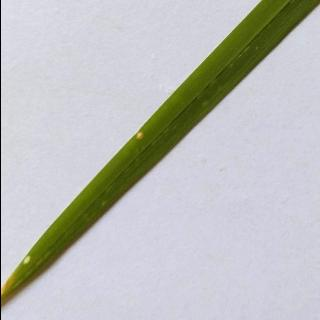Blast: (15, 255, 36, 268), (134, 128, 148, 144)
